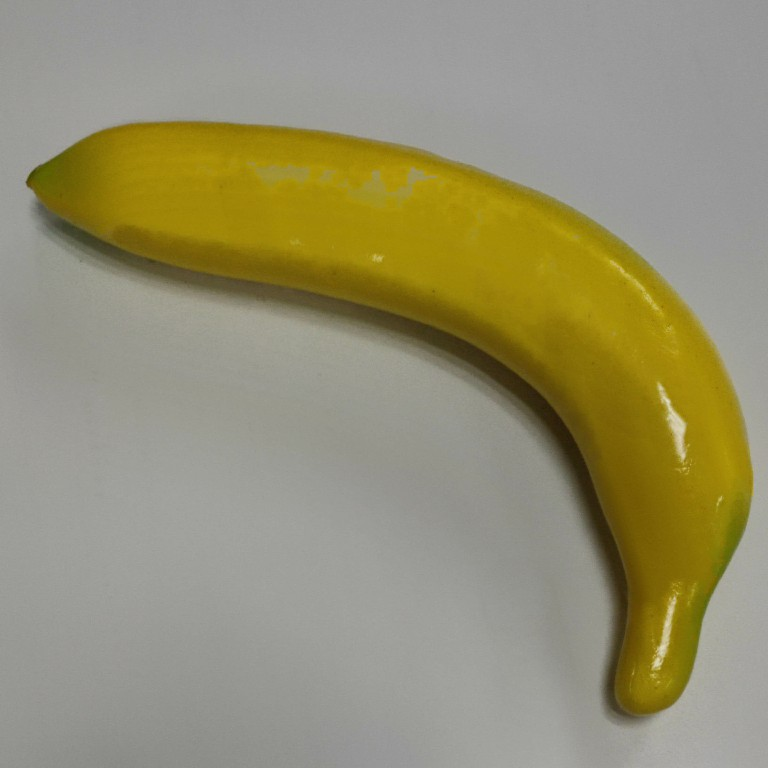fruit_banana: (21, 116, 757, 719)
